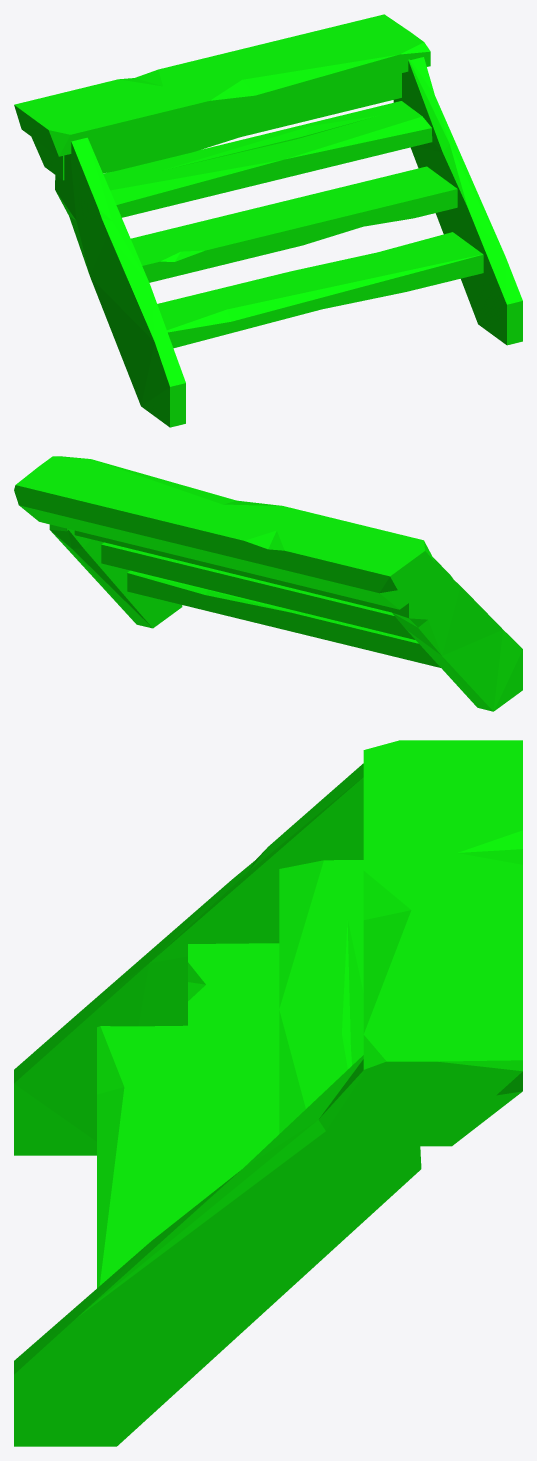
Rendered from SM_Stairs_Wood_Regular_2m_Fantasy.fbx.
3 views of the same model, one above another, from view 1: azimuth 30°, elevation 25°; view 2: azimuth 150°, elevation 25°; view 3: azimuth 270°, elevation 25° (orthographic). The views are drawn at different scales.
Visible parts, largest first — view 1: stairs-wood-regular-2m-fantasy; view 2: stairs-wood-regular-2m-fantasy; view 3: stairs-wood-regular-2m-fantasy.
Part boxes in pixels (x1,y1,x2,y2): stairs-wood-regular-2m-fantasy: (14, 14, 522, 427); stairs-wood-regular-2m-fantasy: (14, 456, 522, 711); stairs-wood-regular-2m-fantasy: (14, 740, 522, 1446).
Bounding box in the file's own units: 2.09 × 1.18 × 1.4.
